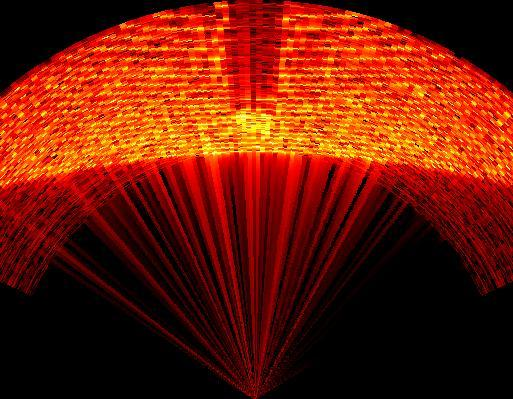box_crate: (222, 1, 286, 115)
